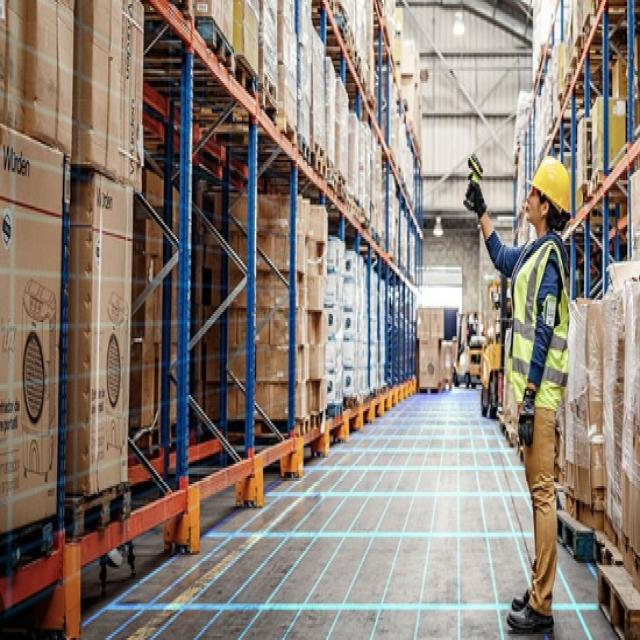boots: (503, 588, 558, 638)
helmet: (529, 159, 577, 238)
vest: (508, 240, 572, 415)
